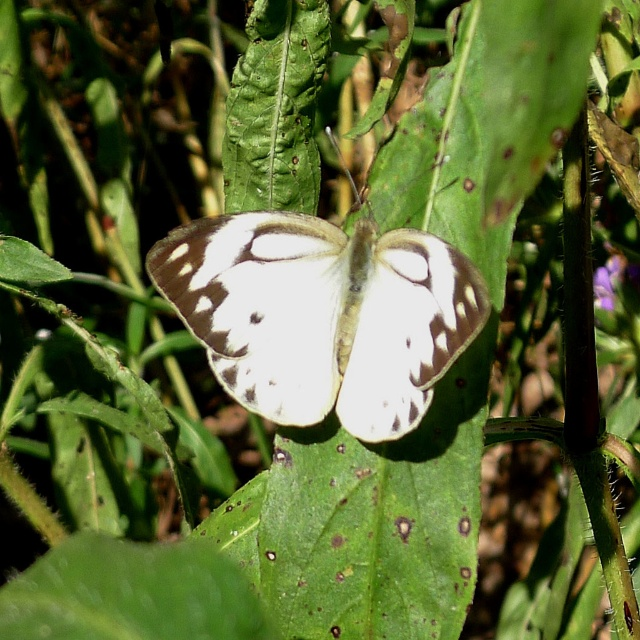Butterfly: (145, 123, 493, 443)
